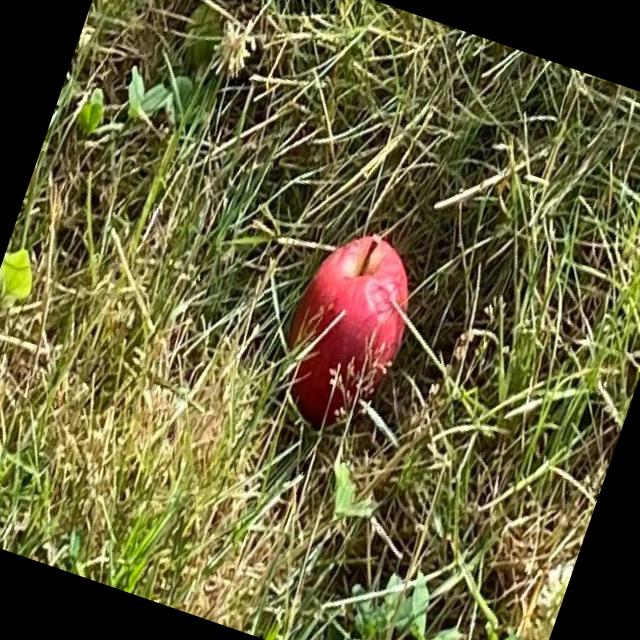Apples: (264, 219, 428, 435)
